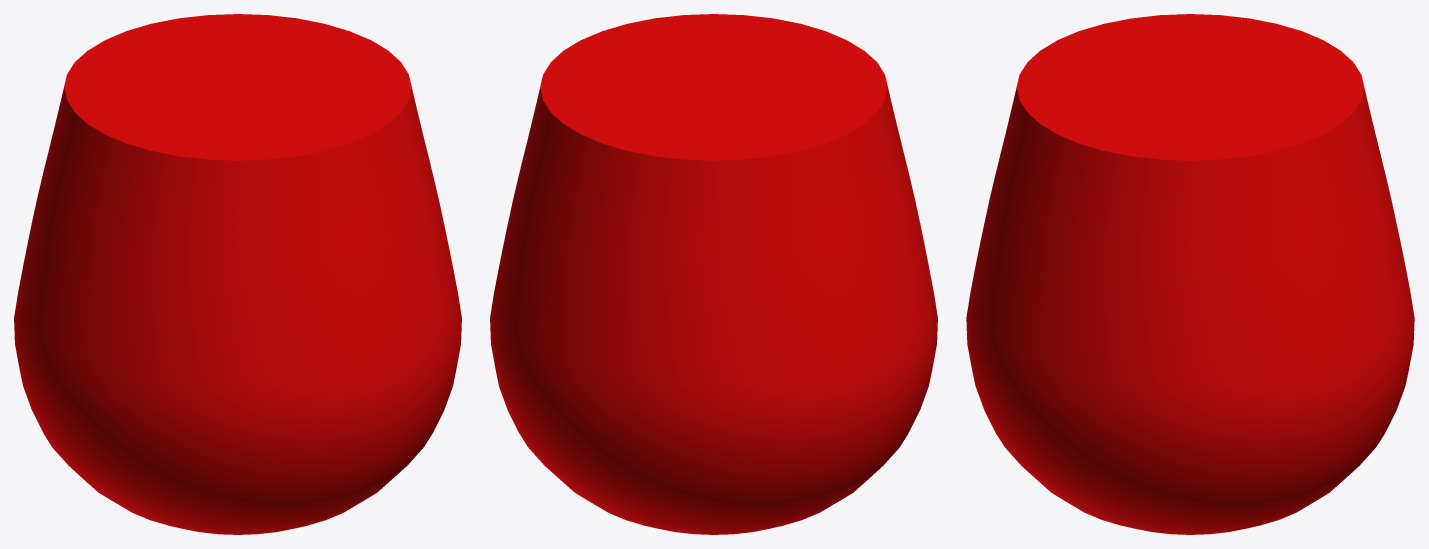
Rendered from Liquid1.fbx.
3 renders of one model, left to right at view 1: azimuth 30°, elevation 25°; view 2: azimuth 150°, elevation 25°; view 3: azimuth 270°, elevation 25°, orthographic.
Visible parts, largest first — view 1: Liquid1; view 2: Liquid1; view 3: Liquid1.
Boxes of the visible parts, left/top/right/bottom form: Liquid1: left=14, top=14, right=461, bottom=534; Liquid1: left=490, top=14, right=937, bottom=534; Liquid1: left=966, top=14, right=1414, bottom=534.
Bounding box in the file's own units: 6.69 × 6.94 × 6.69.
